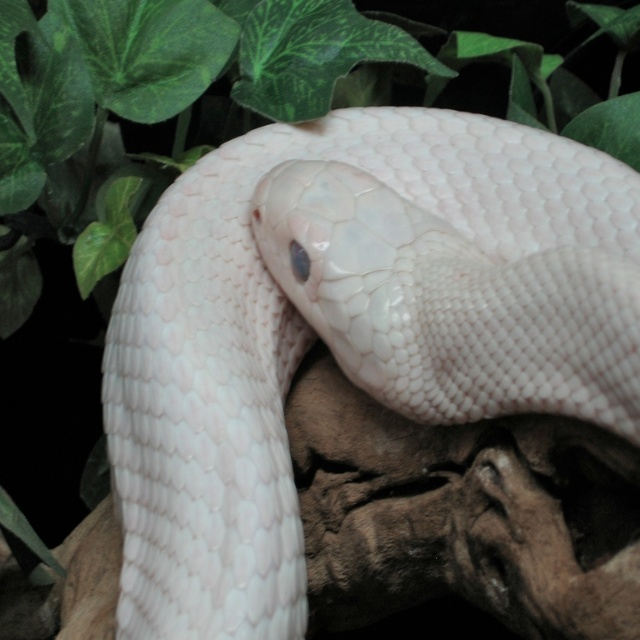Snake: (100, 106, 640, 640)
